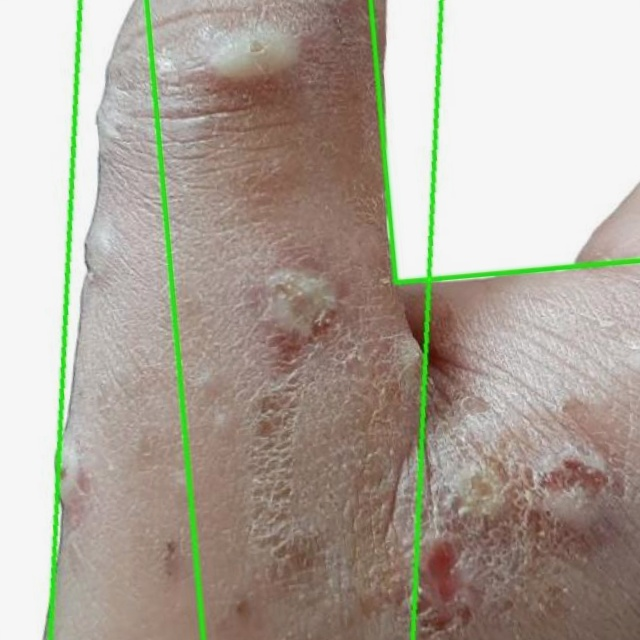Scabies: (50, 0, 440, 639), (0, 0, 203, 639), (369, 0, 639, 283)
